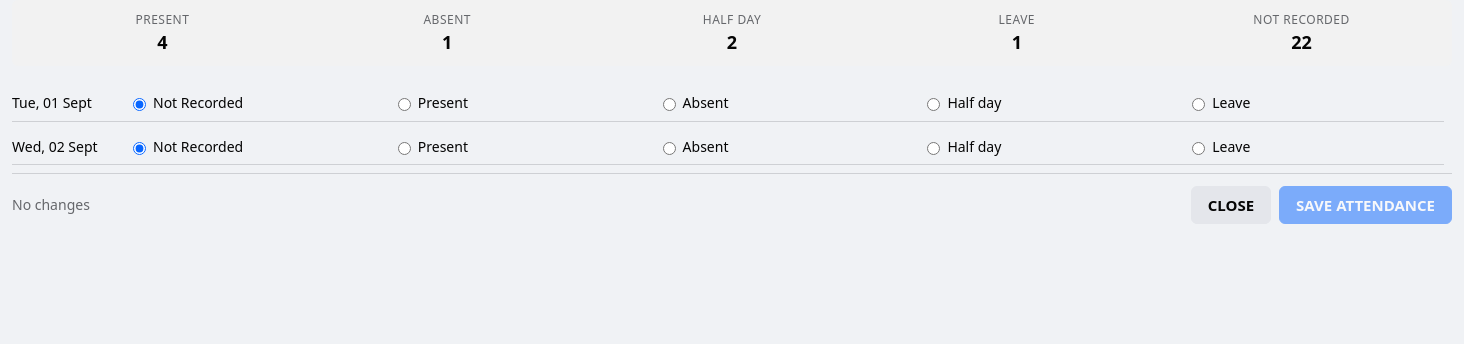
AttendanceEditor › shows the summary, tracks pending day changes, and saves with upsertBulk
The width and height of the screenshot is (1464, 344).
Expected: the text "4" is shown, [157,30,168,54]
Expected: the text "22" is shown, [1291,30,1312,54]
Step 1. Click the radio button labelled "Present" in the row of "Tue, 01 Sept" → (404, 105), box [398,98,411,111]
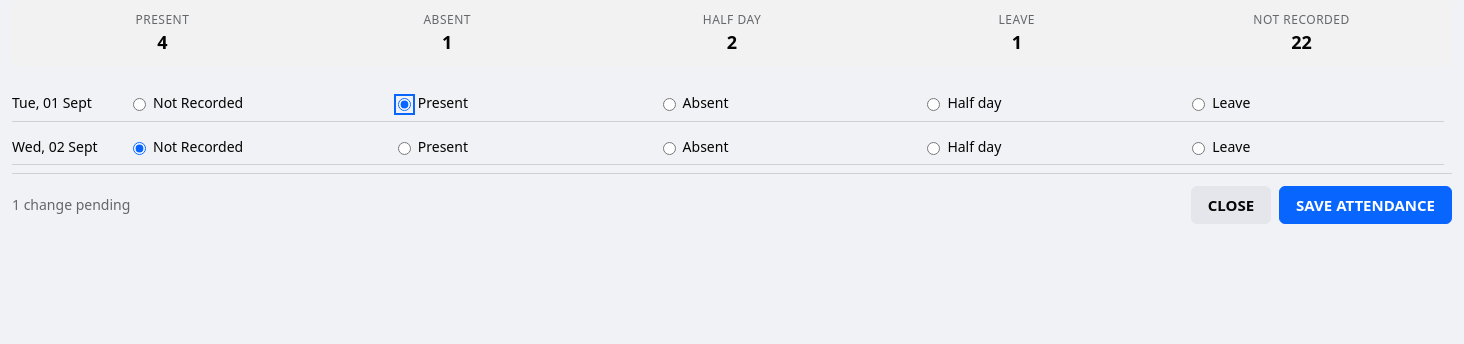
Now the text "1 change pending" is shown, box [12,196,130,215]
Now the button "Save attendance" is enabled
Step 2. Click the button "Save attendance" → (1366, 205), box [1279,186,1452,224]
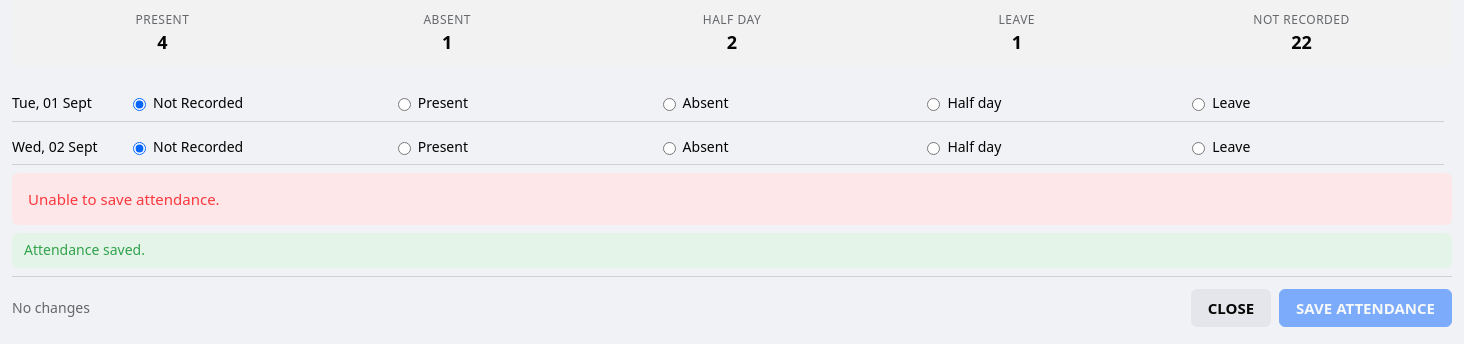
Now the message "Attendance saved." is shown, box [12,233,1452,268]
